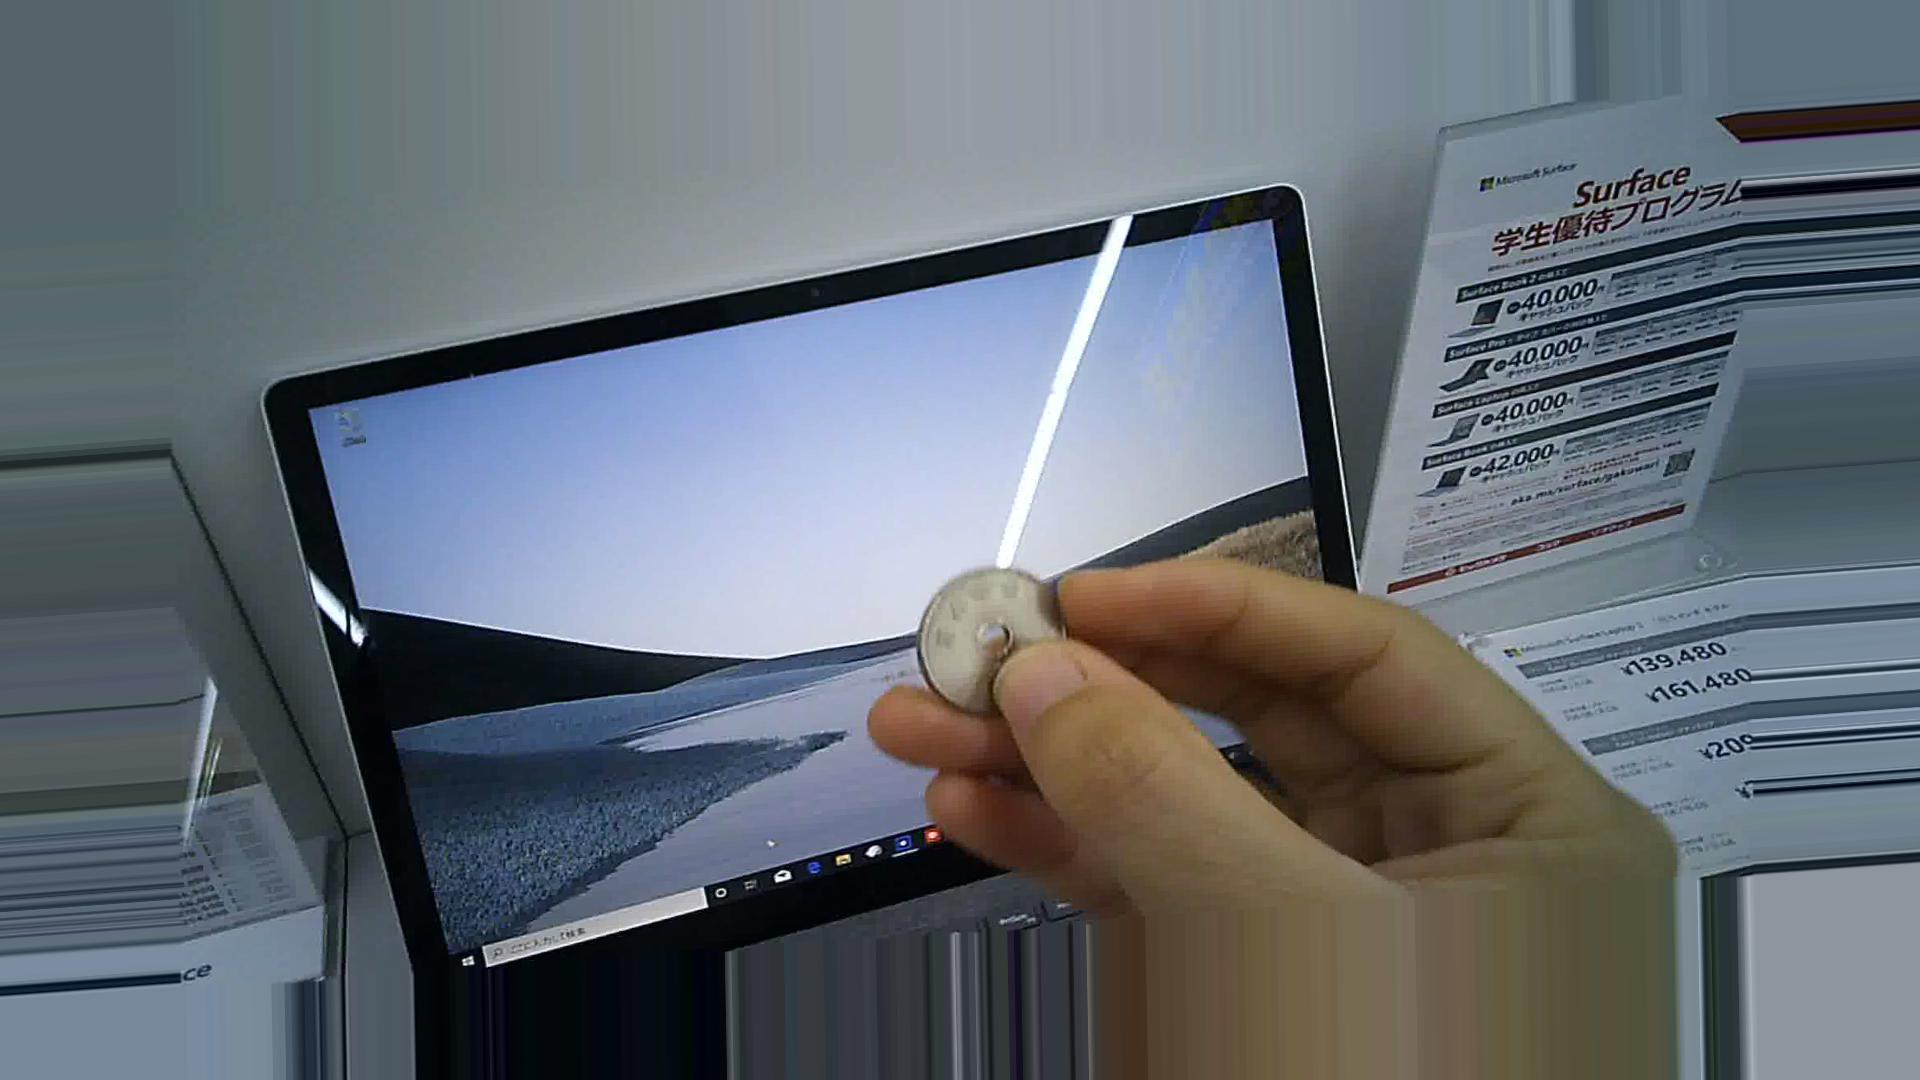50 Yen: (919, 568, 1060, 712)
